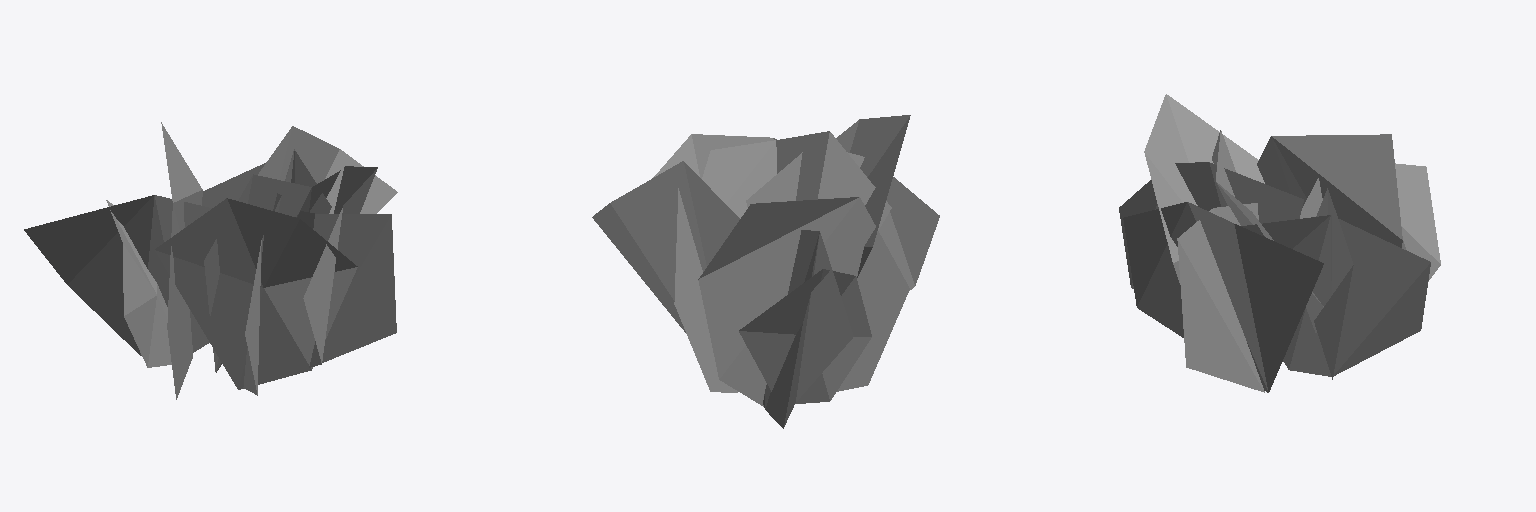
File: groundShrubs_c.obj
3 renders of one model, left to right at view 1: azimuth 30°, elevation 25°; view 2: azimuth 150°, elevation 25°; view 3: azimuth 270°, elevation 25°, orthographic.
Visible parts, largest first — view 1: shrubc; view 2: shrubc; view 3: shrubc.
Boxes of the visible parts, <box> form: shrubc: <box>24,122,397,399</box>; shrubc: <box>592,115,939,428</box>; shrubc: <box>1119,94,1440,392</box>.
Bounding box in the file's own units: 1.11 × 0.806 × 0.9767.